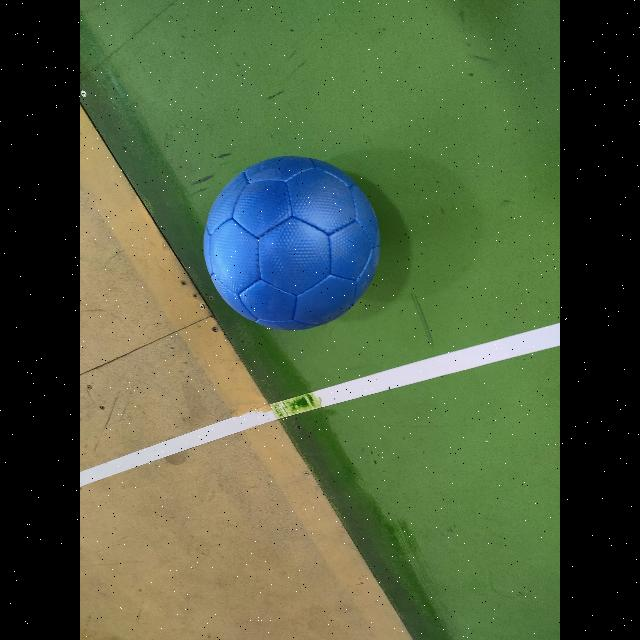B: (204, 157, 380, 330)
